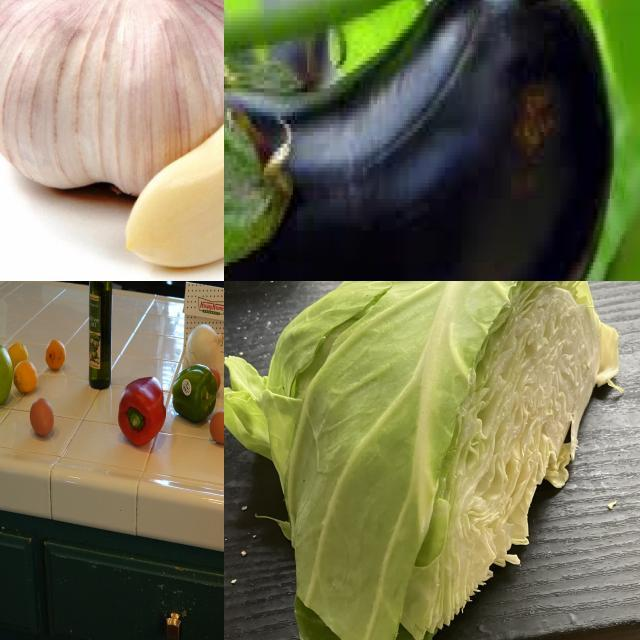bell_pepper: (118, 377, 172, 450), (171, 366, 220, 422)
cabbage: (225, 282, 622, 640)
egg: (28, 398, 58, 440), (210, 410, 225, 452)
eggplant: (225, 1, 610, 282)
garlic: (1, 1, 225, 201), (120, 109, 225, 274)
onion: (181, 323, 225, 375)
